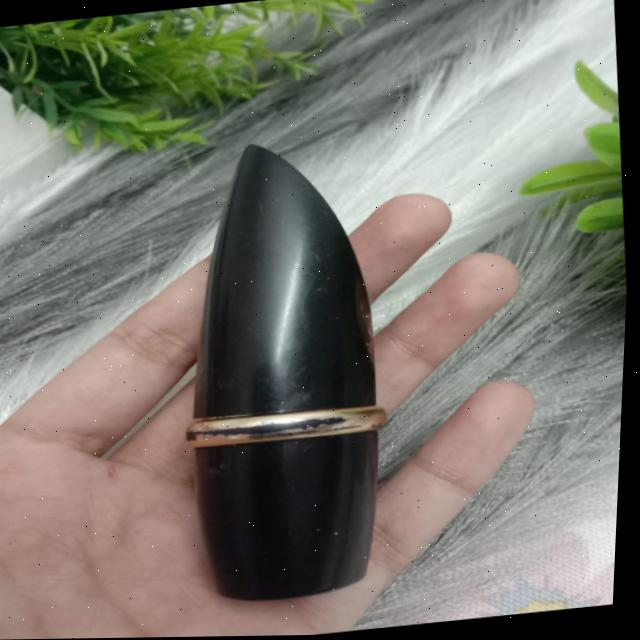lip stick: (136, 102, 431, 630)
